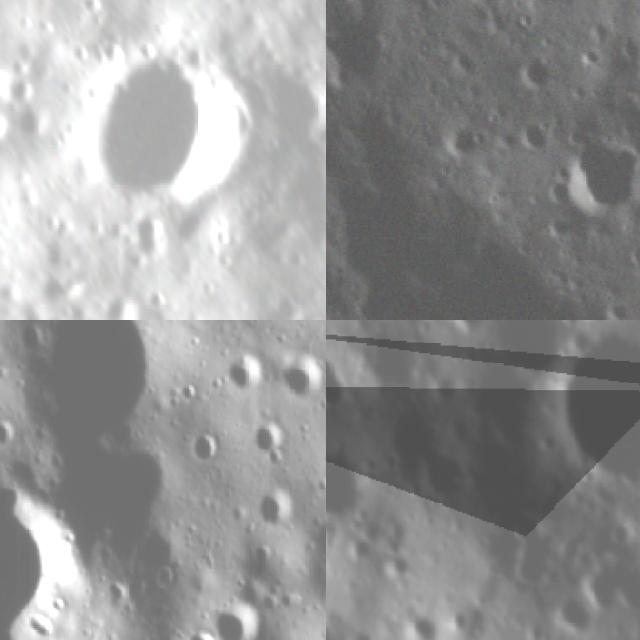crater: (48, 12, 283, 246), (24, 320, 165, 447), (546, 321, 640, 481), (0, 497, 75, 639), (544, 127, 640, 222), (387, 406, 473, 504), (326, 19, 392, 87), (79, 280, 152, 320), (430, 121, 491, 166), (273, 352, 326, 403), (326, 444, 363, 513), (326, 343, 360, 415), (249, 412, 292, 468), (513, 54, 565, 100), (545, 592, 594, 640), (0, 68, 44, 119), (210, 603, 262, 640), (516, 115, 551, 161), (225, 354, 262, 396), (258, 486, 292, 530), (0, 97, 19, 160), (188, 437, 219, 465), (311, 519, 326, 571), (0, 49, 13, 107), (181, 624, 227, 640), (0, 417, 18, 453), (443, 320, 487, 334), (463, 0, 503, 12)
